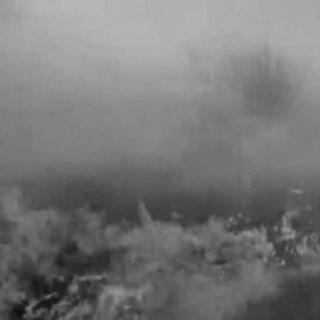Fire: (1, 172, 318, 316)
